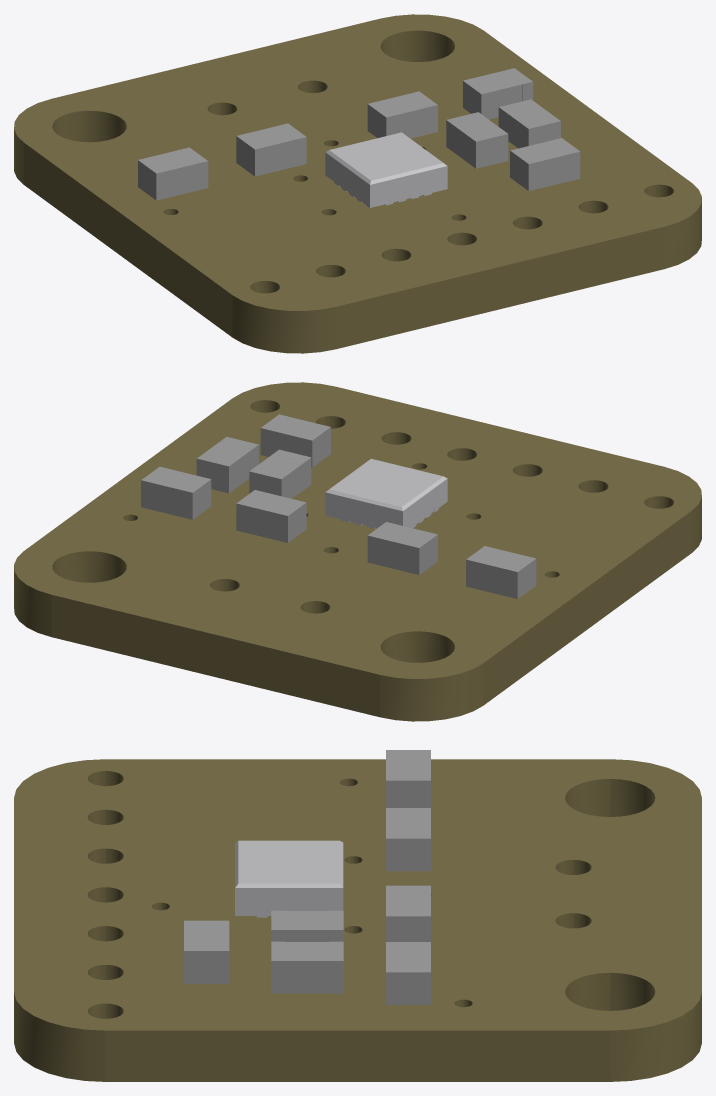
Rendered from ada-3006.glb.
The picture shows the model from 3 angles, top to bottom: view 1: azimuth 30°, elevation 25°; view 2: azimuth 150°, elevation 25°; view 3: azimuth 270°, elevation 25°; orthographic projection. The views are drawn at different scales.
Visible parts, largest first — view 1: 0.16666666666666666_0.16666666666666666_0.08333333333333333_, 0.3333333333333333_0.3333333333333333_0.3333333333333333_0, 0.5833333333333334_0.5833333333333334_0.5833333333333334_0.8; view 2: 0.16666666666666666_0.16666666666666666_0.08333333333333333_, 0.3333333333333333_0.3333333333333333_0.3333333333333333_0, 0.5833333333333334_0.5833333333333334_0.5833333333333334_0.8; view 3: 0.16666666666666666_0.16666666666666666_0.08333333333333333_, 0.3333333333333333_0.3333333333333333_0.3333333333333333_0, 0.5833333333333334_0.5833333333333334_0.5833333333333334_0.8.
Part boxes in pixels (x1,y1,x2,y2): 0.16666666666666666_0.16666666666666666_0.08333333333333333_: (14,14,701,353); 0.3333333333333333_0.3333333333333333_0.3333333333333333_0: (138,68,580,200); 0.5833333333333334_0.5833333333333334_0.5833333333333334_0.8: (325,132,447,207); 0.16666666666666666_0.16666666666666666_0.08333333333333333_: (14,382,701,721); 0.3333333333333333_0.3333333333333333_0.3333333333333333_0: (141,414,536,598); 0.5833333333333334_0.5833333333333334_0.5833333333333334_0.8: (325,458,447,528); 0.16666666666666666_0.16666666666666666_0.08333333333333333_: (14,759,701,1081); 0.3333333333333333_0.3333333333333333_0.3333333333333333_0: (184,750,430,1004); 0.5833333333333334_0.5833333333333334_0.5833333333333334_0.8: (235,840,343,917).
Bounding box in the file's own units: 1.78 × 0.257 × 1.9.
